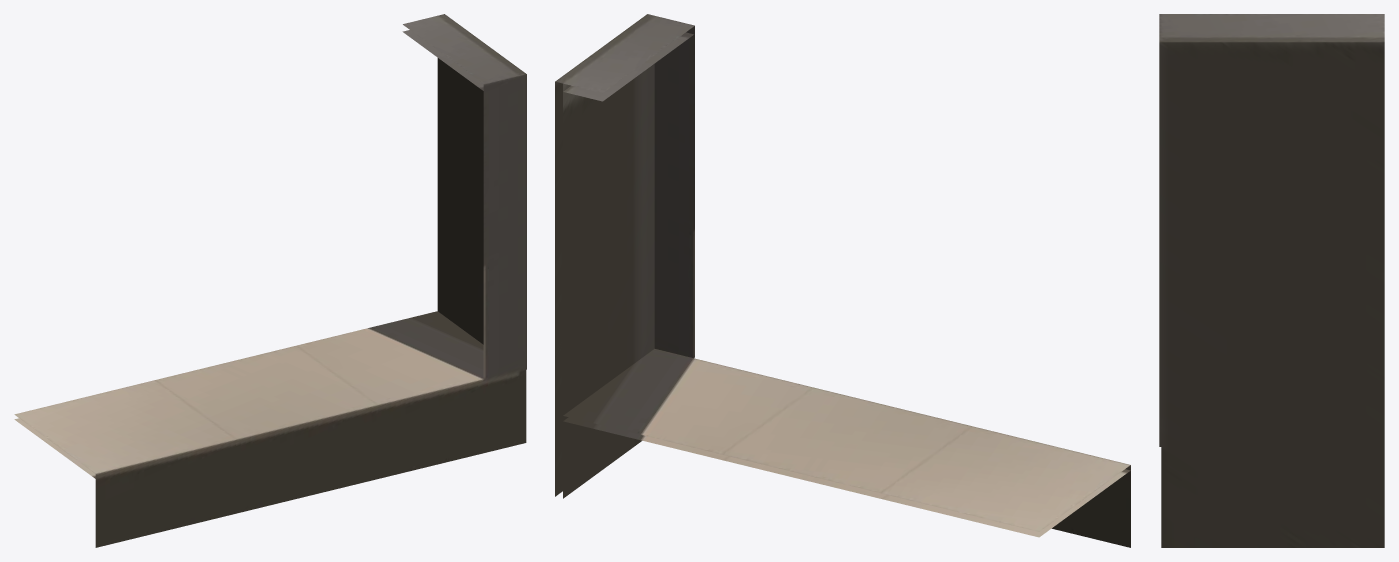
Rendered from front-right.glb.
The picture shows the model from 3 angles, left to right: view 1: azimuth 30°, elevation 25°; view 2: azimuth 150°, elevation 25°; view 3: azimuth 270°, elevation 25°; orthographic projection. The views are drawn at different scales.
Visible parts, largest first — view 1: frontRight; view 2: frontRight; view 3: frontRight.
Boxes of the visible parts, box(x1,y1,x2,y2) form: frontRight: box(14, 14, 526, 547); frontRight: box(555, 14, 1130, 547); frontRight: box(1159, 14, 1384, 547).
Bounding box in the file's own units: 1.83 × 1.5 × 0.605.
Materials: 1 (1 with a texture image).
